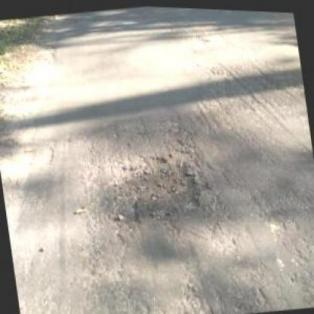Hueco: (106, 144, 206, 227)
